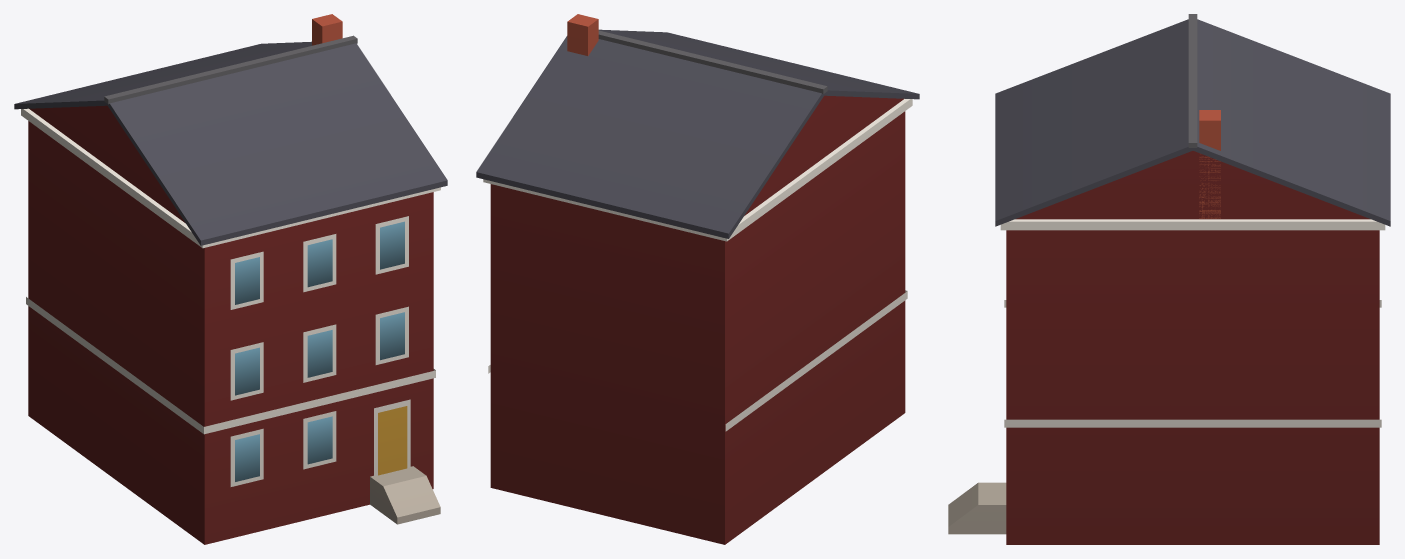
The model's file is lane_e9_far.glb.
The picture shows the model from 3 angles, left to right: view 1: azimuth 30°, elevation 25°; view 2: azimuth 150°, elevation 25°; view 3: azimuth 270°, elevation 25°; orthographic projection. The views are drawn at different scales.
Parts seen in each view (by area): view 1: lane_e9_far; view 2: lane_e9_far; view 3: lane_e9_far.
Part boxes in pixels (<box>): lane_e9_far: <box>14,14,447,544</box>; lane_e9_far: <box>476,14,919,544</box>; lane_e9_far: <box>948,14,1390,544</box>.
Bounding box in the file's own units: 9.8 × 15.05 × 14.21.
1 material, 1 textured.
